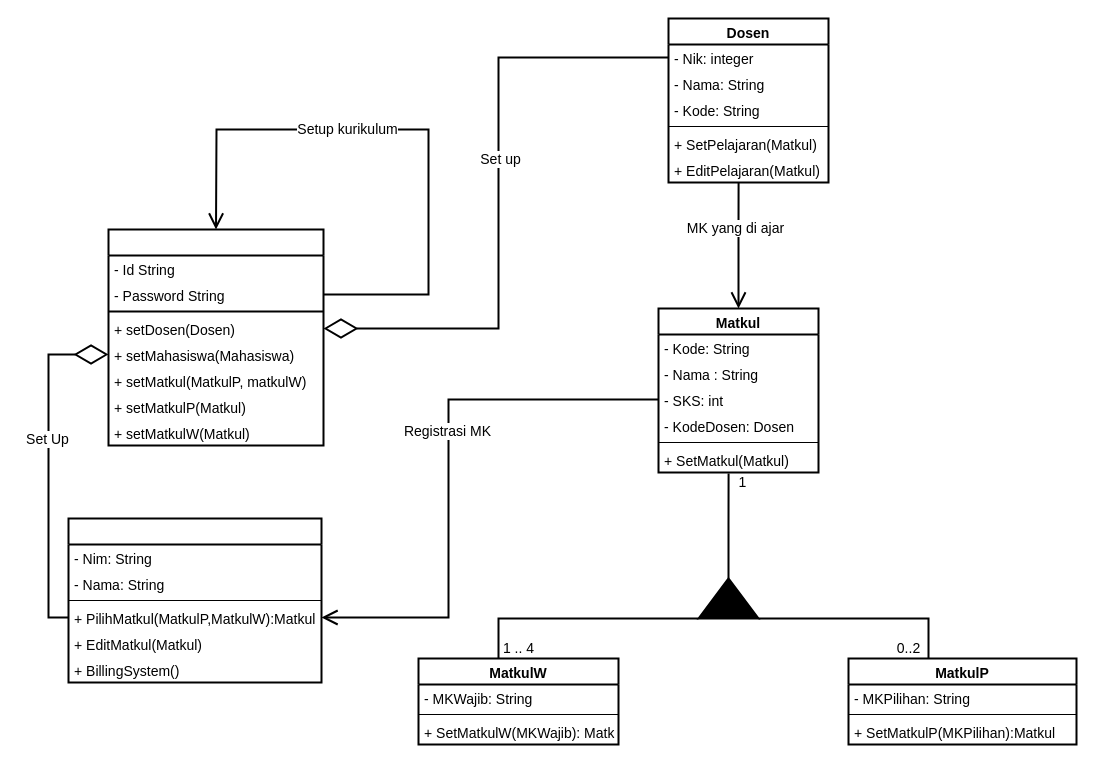
This 1094x764 diagram has some shape labels left out. The box of each missing label's shape, as (x1, y1, x2, y2) in pixels:
Admin: (107, 228, 324, 446)
Mahasiswa: (67, 517, 322, 683)
